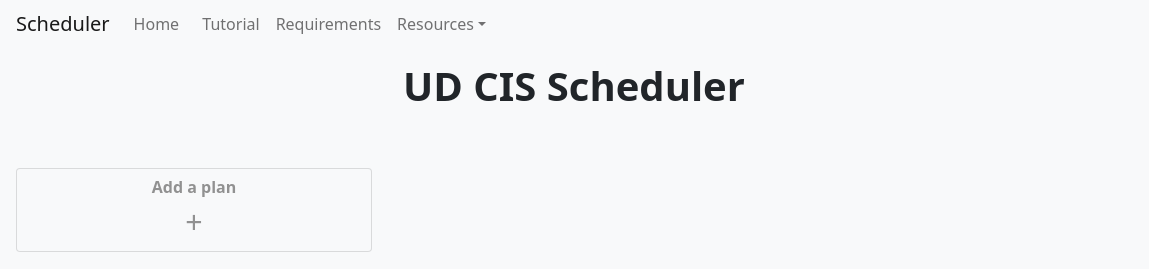
Test: Plan › Should add plans when the add plan button is clicked
This screenshot has width=1149, height=269.
Click the button with test id "add-plan" at (194, 210), box [17,169,371,251]
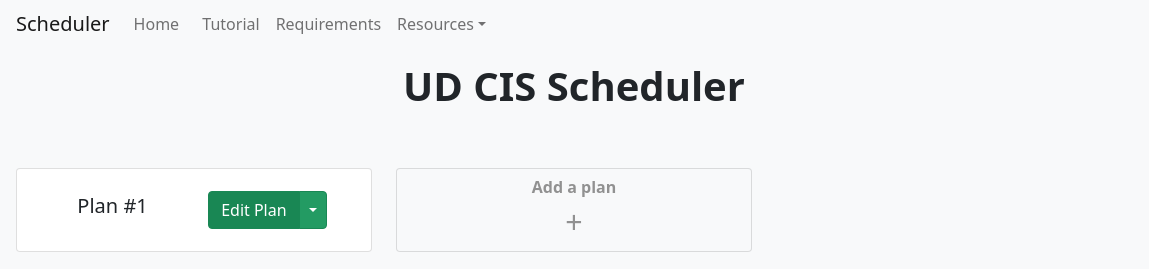
Check: the link with test id "edit-plan" is shown, box [208,191,300,229]
Click the button with test id "add-plan" at (574, 210), box [397,169,751,251]
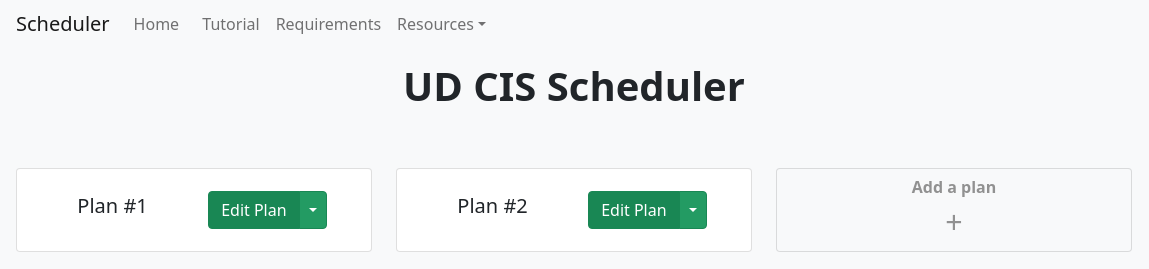
Check: the number of links with test id "edit-plan" is 2, box [208,191,300,229]; [588,191,680,229]
